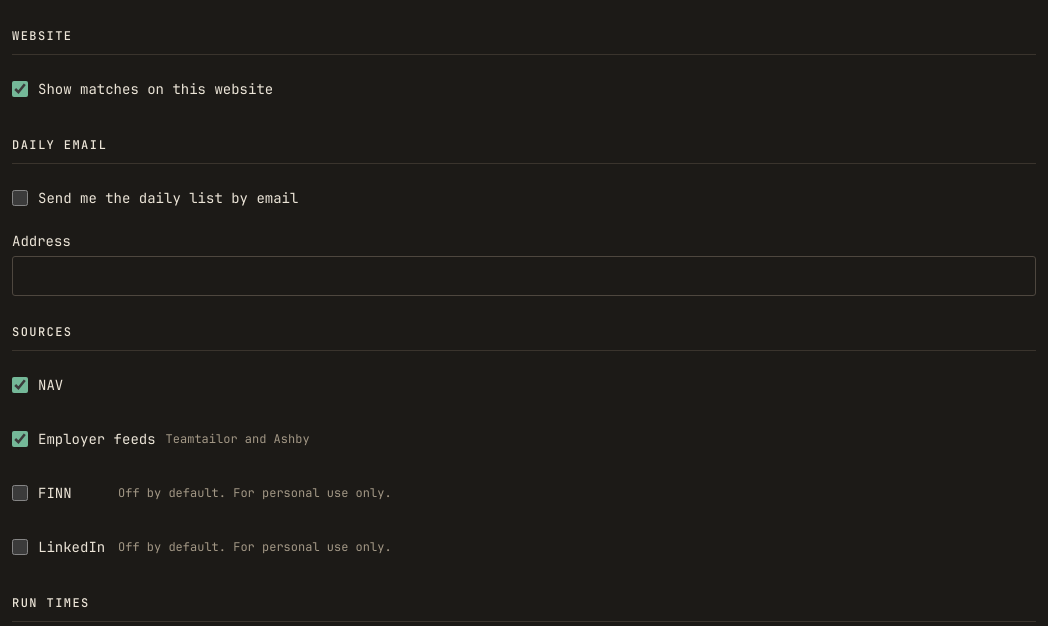
Test case: DeliverySettings › should refuse to turn email on with a bad typed address
Type "user@localhost" into the field labelled "Address" at (524, 276), box [12,256,1036,296]
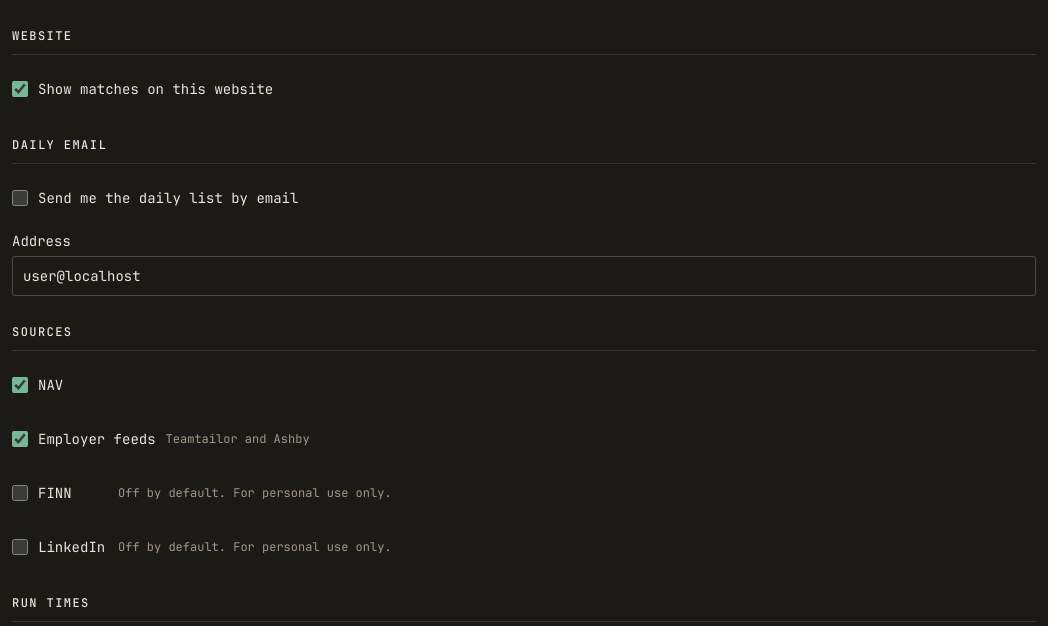
Click the checkbox labelled "Send me the daily list by email" at (20, 198), box [12,190,28,206]
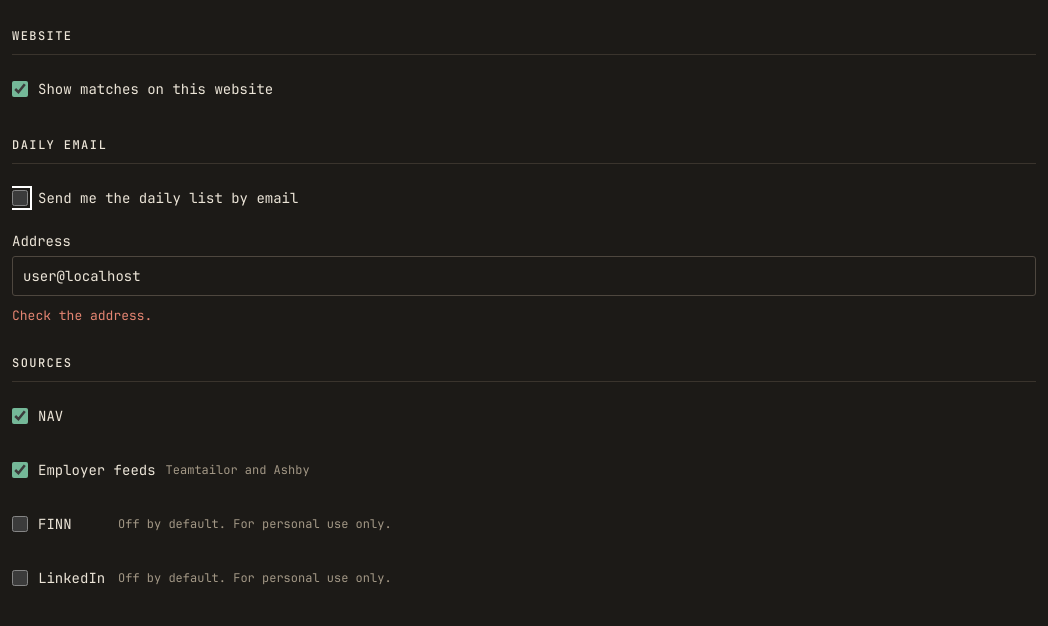
Expected: the message reads "Check the address.", [12,307,152,324]
